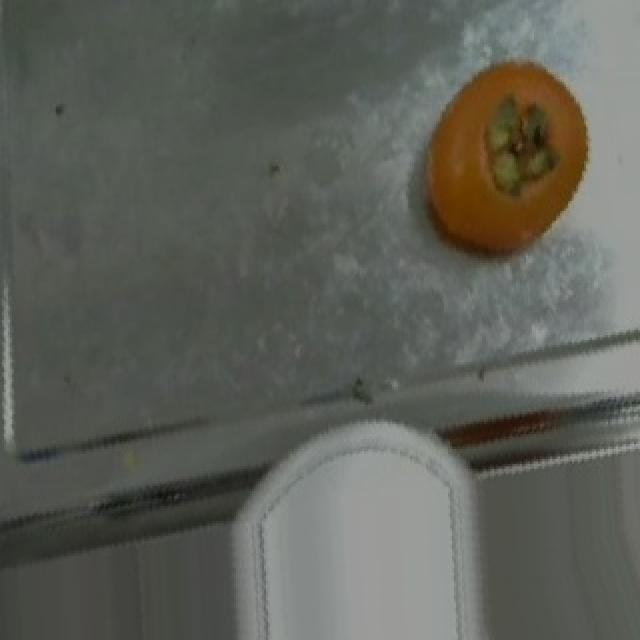Fruit: (234, 426, 470, 640), (402, 42, 618, 273)
